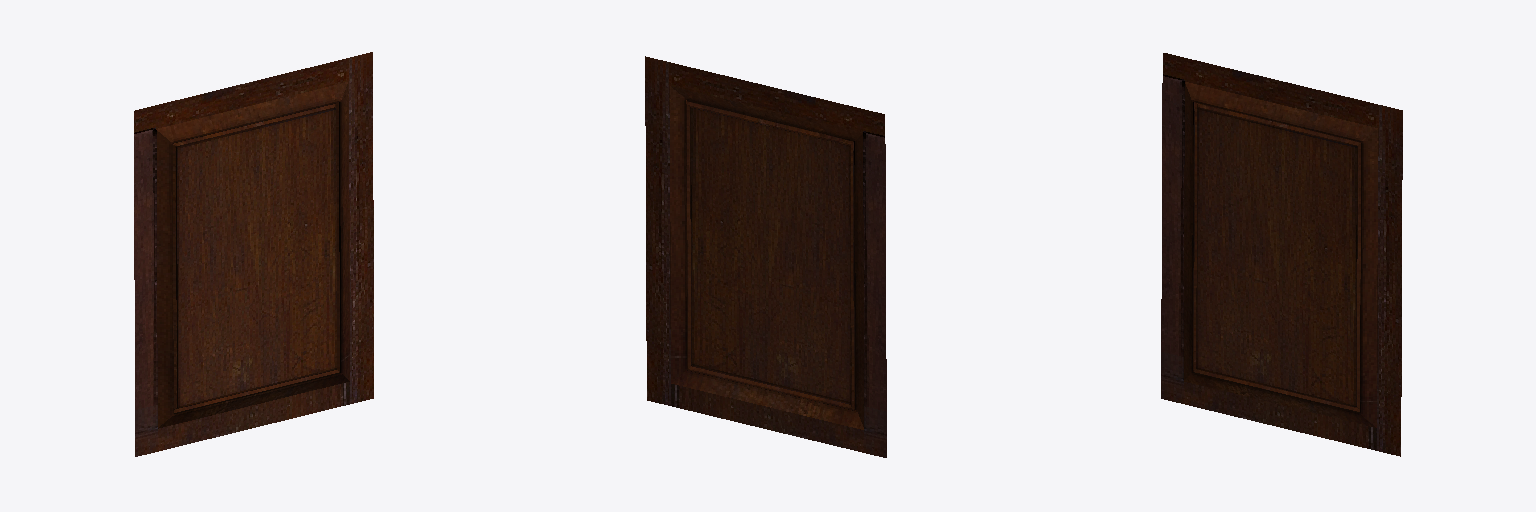
3 renders of one model, left to right at view 1: azimuth 30°, elevation 25°; view 2: azimuth 150°, elevation 25°; view 3: azimuth 330°, elevation 25°, orthographic.
Bounding box in the file's own units: 0.3733 × 0.514 × 0.0162.
1 materials, 1 textured.